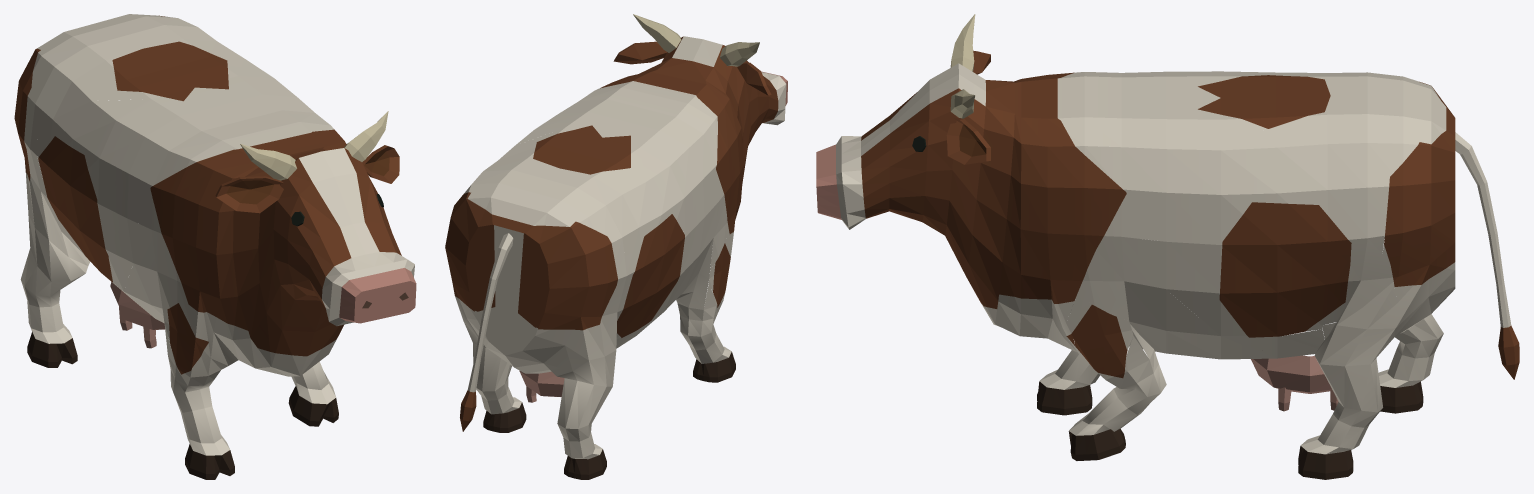
File: cow-base__walk2.glb
The picture shows the model from 3 angles, left to right: view 1: azimuth 30°, elevation 25°; view 2: azimuth 150°, elevation 25°; view 3: azimuth 270°, elevation 25°; orthographic projection. The views are drawn at different scales.
Visible parts, largest first — view 1: cow-base__walk2; view 2: cow-base__walk2; view 3: cow-base__walk2.
Boxes of the visible parts, x1=… form: cow-base__walk2: x1=14, y1=14, x2=416, y2=479; cow-base__walk2: x1=445, y1=14, x2=787, y2=479; cow-base__walk2: x1=816, y1=14, x2=1519, y2=479.
Size of the model in its own units: 0.8416 by 1.43 by 2.37.
